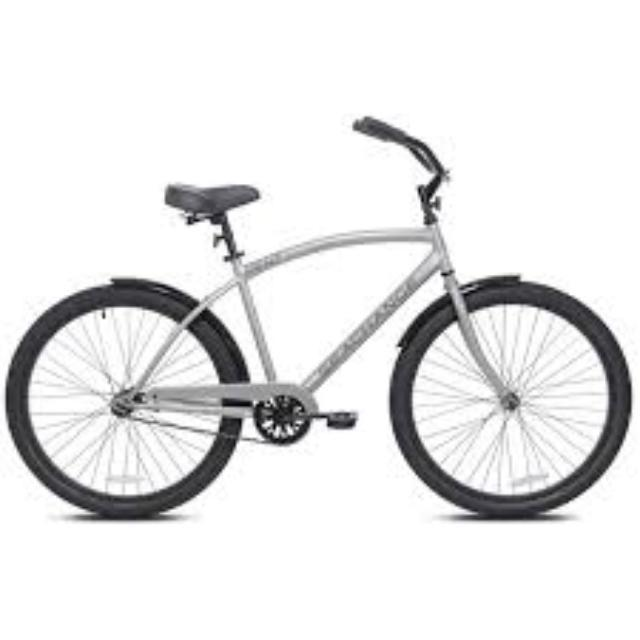obstacle: (2, 107, 640, 587)
